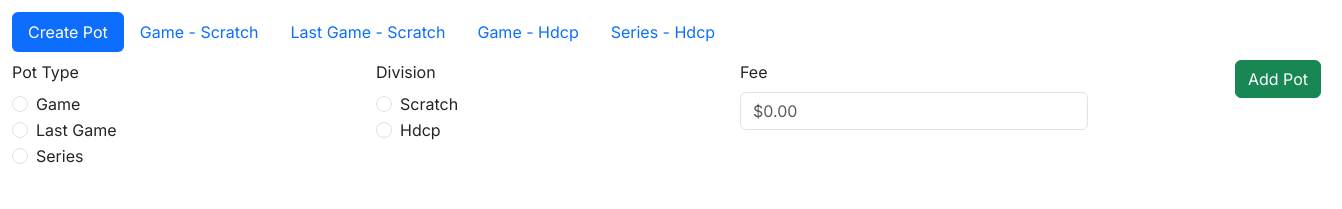
Test case: ZeroToNPots - Component › render the create pot with errors › render Pot Type errors
Click the button "Add Pot".
click(1278, 79)  # box [1235,60,1321,98]
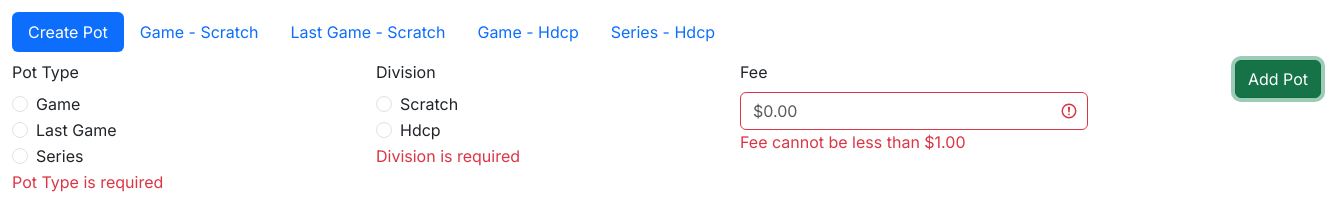
Expected: the text with test id "dangerPotType" reads "Pot Type is required", [12,172,163,192]
Expected: the text with test id "dangerDiv" reads "Division is required", [376,146,520,166]
Expected: the text with test id "dangerPotFee" reads "Fee cannot be less than $1.00", [740,132,966,152]
